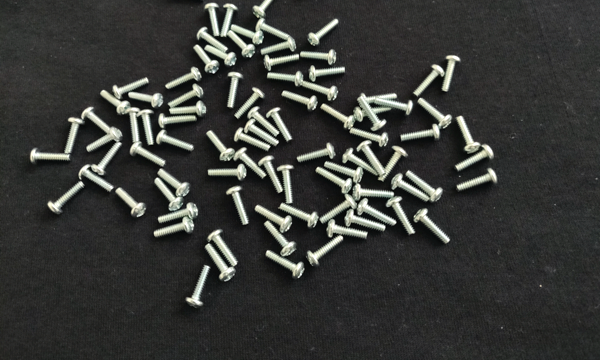shortscrew: (413, 209, 451, 244), (47, 182, 85, 216), (265, 249, 306, 280), (417, 97, 453, 132), (406, 170, 444, 203), (306, 235, 345, 267), (318, 195, 358, 226), (265, 221, 298, 258), (455, 143, 497, 172), (207, 229, 239, 267), (205, 244, 236, 283), (386, 195, 416, 235), (390, 173, 431, 202), (357, 140, 388, 177), (186, 265, 212, 309), (357, 199, 397, 227), (154, 177, 185, 213), (414, 64, 446, 98), (378, 147, 408, 183), (279, 203, 319, 230), (345, 209, 385, 236), (157, 168, 193, 198), (92, 141, 122, 177), (255, 205, 292, 234), (320, 103, 356, 132), (77, 164, 114, 192), (234, 87, 266, 119), (359, 98, 387, 134), (244, 119, 280, 147), (153, 216, 195, 240), (316, 167, 353, 194), (116, 188, 147, 220), (233, 149, 266, 179), (226, 186, 250, 227), (258, 155, 283, 194), (130, 142, 167, 168), (169, 84, 206, 110), (248, 106, 280, 136), (324, 161, 364, 185), (307, 18, 340, 47), (266, 108, 293, 143), (158, 202, 199, 225), (87, 127, 124, 152), (196, 26, 229, 54), (457, 115, 480, 155), (326, 220, 369, 241), (457, 169, 498, 191), (207, 130, 235, 162), (234, 127, 271, 151), (113, 77, 150, 101), (157, 130, 195, 153), (297, 143, 337, 164), (165, 67, 203, 89), (350, 127, 389, 148), (303, 80, 340, 102), (100, 91, 131, 117), (205, 44, 238, 68), (399, 125, 442, 143), (64, 118, 85, 154), (194, 45, 220, 74), (254, 19, 289, 40), (442, 55, 461, 93), (263, 53, 299, 73), (231, 24, 265, 45), (352, 184, 394, 201), (30, 148, 72, 165), (277, 165, 295, 204), (82, 107, 109, 133), (220, 3, 239, 39), (169, 101, 207, 119), (128, 91, 164, 110), (374, 99, 414, 116), (226, 72, 244, 109), (299, 49, 338, 66), (208, 165, 247, 182), (354, 106, 392, 123), (262, 38, 297, 56), (309, 65, 345, 82), (205, 3, 223, 36), (252, 0, 282, 19), (359, 94, 398, 108), (159, 113, 197, 127)
